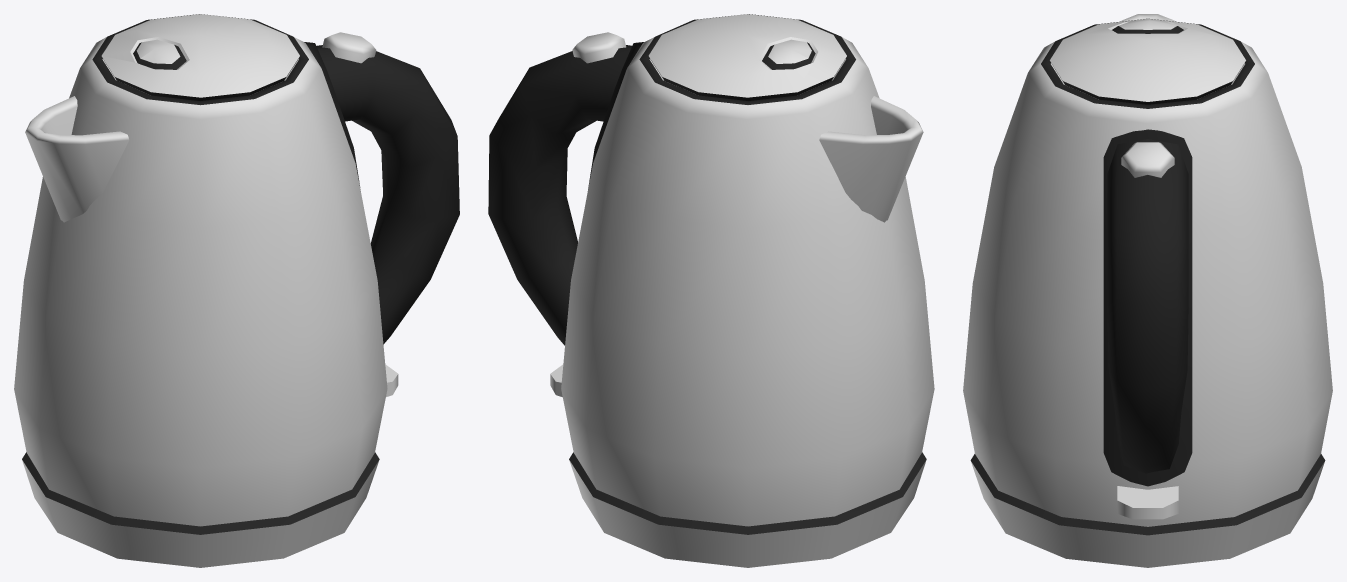
The model's file is electronics_015.fbx.
The picture shows the model from 3 angles, left to right: view 1: azimuth 30°, elevation 25°; view 2: azimuth 150°, elevation 25°; view 3: azimuth 270°, elevation 25°; orthographic projection.
Parts seen in each view (by area): view 1: electronics_015; view 2: electronics_015; view 3: electronics_015.
Boxes of the visible parts, x1=… form: electronics_015: x1=14, y1=14, x2=459, y2=567; electronics_015: x1=488, y1=14, x2=934, y2=567; electronics_015: x1=963, y1=14, x2=1332, y2=567.
Size of the model in its own units: 39.3 by 30.11 by 41.17.
